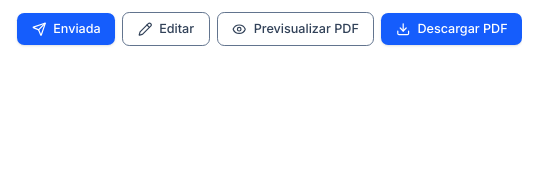
Test: QuotationDetailActions › muestra spinner y deshabilita Enviada mientras la transición está en vuelo
What coordinates should you click on to do the following:
click the button "Enviada"
I would click on:
 (66, 29)
Its box is [17,13,115,45].
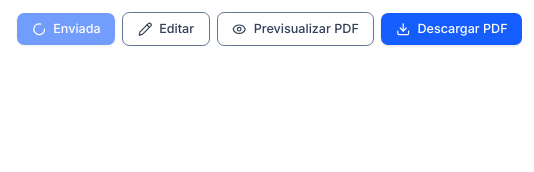
Expected: the button "Enviada" is disabled, [17,13,115,45]
